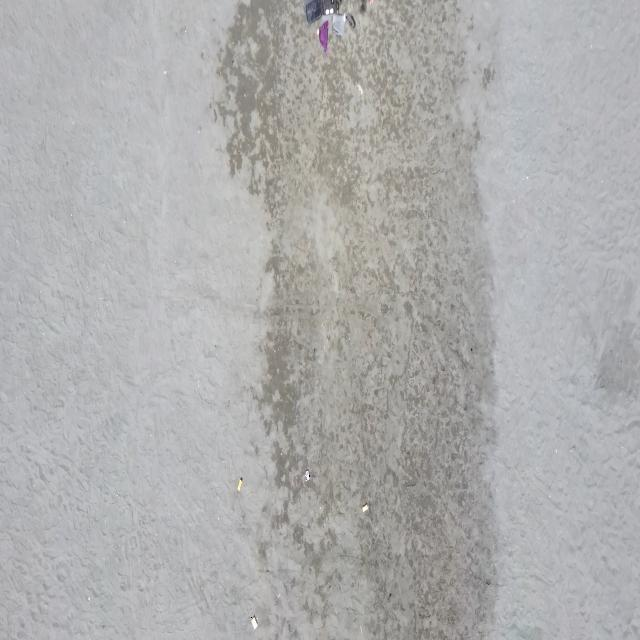Garbage: (303, 0, 355, 52), (304, 0, 339, 23), (304, 0, 323, 23), (332, 13, 344, 35), (319, 20, 327, 52), (344, 13, 355, 27), (360, 0, 372, 12), (249, 615, 256, 628), (303, 468, 310, 480), (356, 83, 363, 94), (360, 0, 366, 12), (236, 477, 241, 491), (324, 8, 332, 13), (363, 503, 367, 512)
